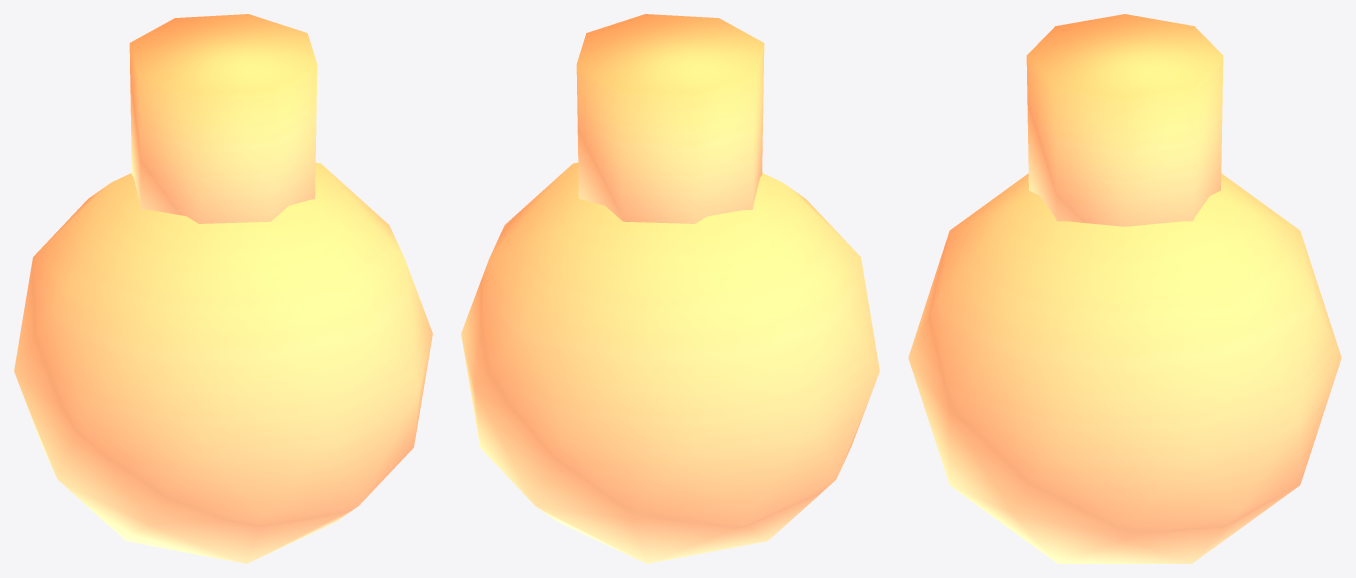
Rendered from wood_pommel_168_004.glb.
3 views of the same model, side by side, from view 1: azimuth 30°, elevation 25°; view 2: azimuth 150°, elevation 25°; view 3: azimuth 270°, elevation 25° (orthographic).
Visible parts, largest first — view 1: wood_pommel_168.004; view 2: wood_pommel_168.004; view 3: wood_pommel_168.004.
Boxes of the visible parts, left/top/right/bottom form: wood_pommel_168.004: left=14, top=14, right=432, bottom=563; wood_pommel_168.004: left=461, top=14, right=879, bottom=563; wood_pommel_168.004: left=908, top=14, right=1341, bottom=563.
Bounding box in the file's own units: 1.43 × 1.91 × 1.51.
1 material, 1 textured.
